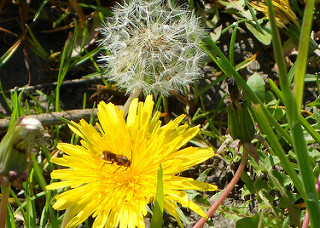dandelion white: (96, 1, 205, 98)
dandelion yellow: (48, 94, 218, 228)
